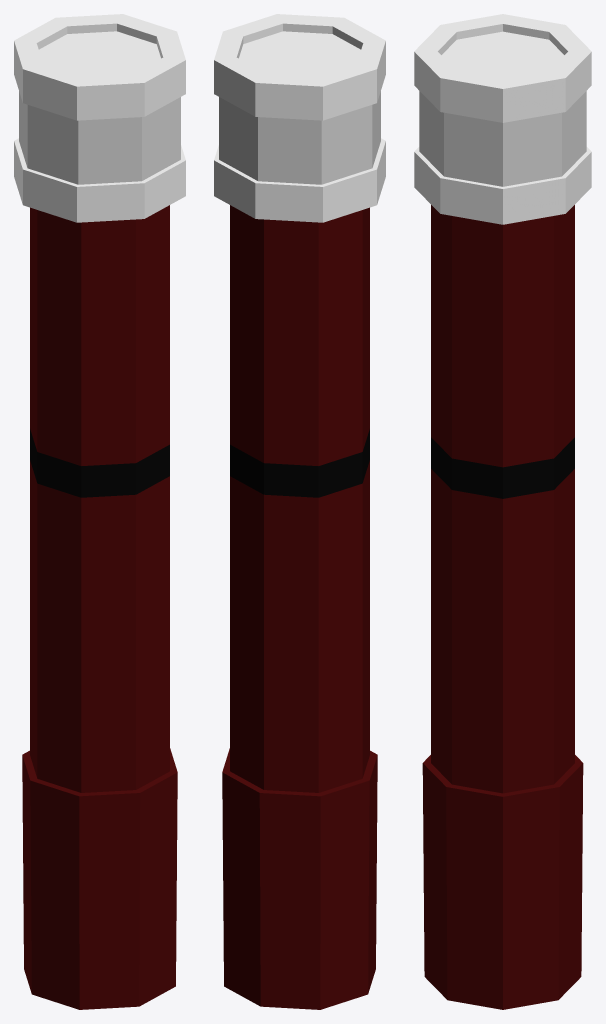
File: roadflare.fbx
3 views of the same model, side by side, from view 1: azimuth 30°, elevation 25°; view 2: azimuth 150°, elevation 25°; view 3: azimuth 270°, elevation 25° (orthographic).
Parts seen in each view (by area): view 1: Flare Base, Flare Cap; view 2: Flare Base, Flare Cap; view 3: Flare Base, Flare Cap.
Boxes of the visible parts, bbox=[...] form: Flare Base: bbox=[22, 205, 177, 1009]; Flare Cap: bbox=[14, 14, 185, 222]; Flare Base: bbox=[222, 205, 377, 1009]; Flare Cap: bbox=[214, 14, 385, 222]; Flare Base: bbox=[422, 205, 583, 1009]; Flare Cap: bbox=[414, 14, 591, 224].
Bounding box in the file's own units: 32 × 184 × 32.
